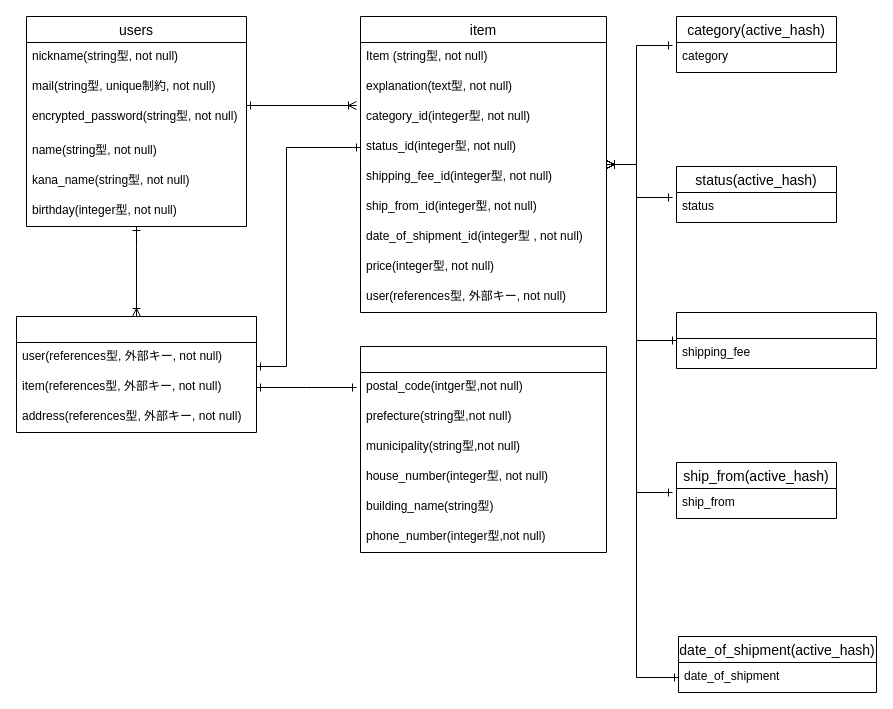
Some shapes in this 893 by 709 pixel diagram are drawn without their labels. Here are the shapes that lost their labels. From the top down, the box of each, then its label:
(676, 312, 876, 368): shipping_fee(active_hash)
(16, 316, 256, 432): item_order
(360, 346, 606, 552): address
